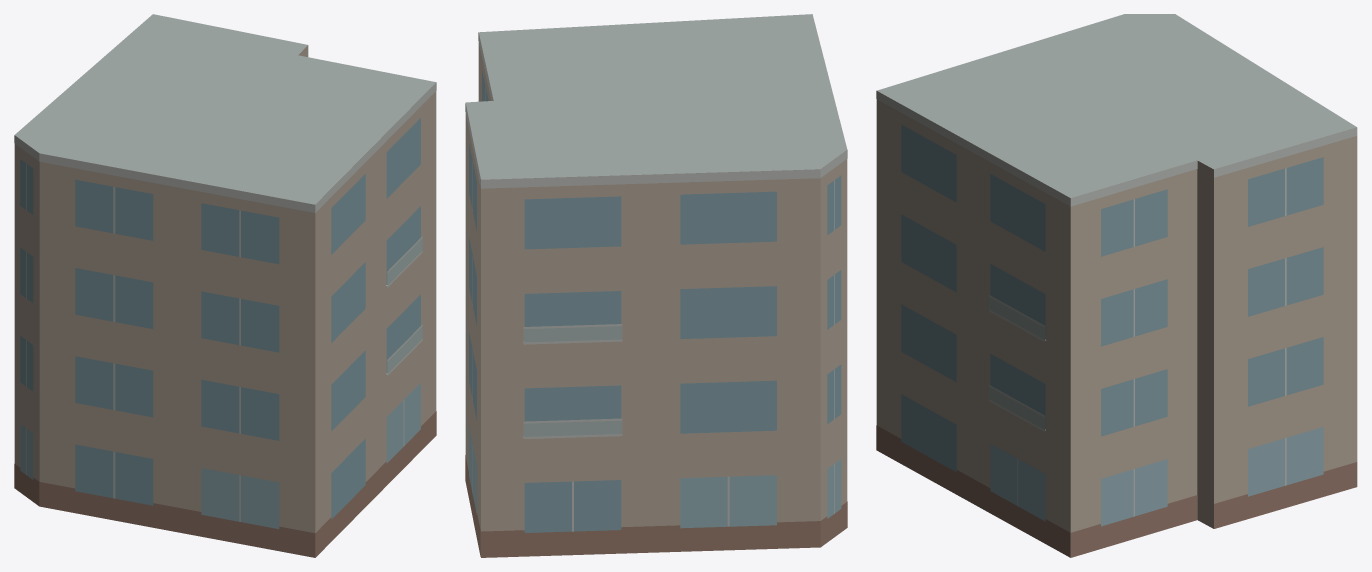
File: survey-upis-32536461.glb
3 renders of one model, left to right at view 1: azimuth 30°, elevation 25°; view 2: azimuth 150°, elevation 25°; view 3: azimuth 270°, elevation 25°, orthographic. The views are drawn at different scales.
Parts seen in each view (by area): view 1: survey-upis-32536461.tmp; view 2: survey-upis-32536461.tmp; view 3: survey-upis-32536461.tmp.
Part boxes in pixels (x1,y1,x2,y2): survey-upis-32536461.tmp: (14,14,436,557); survey-upis-32536461.tmp: (465,14,847,557); survey-upis-32536461.tmp: (876,14,1357,557).
Bounding box in the file's own units: 11.44 × 10.4 × 12.61.
